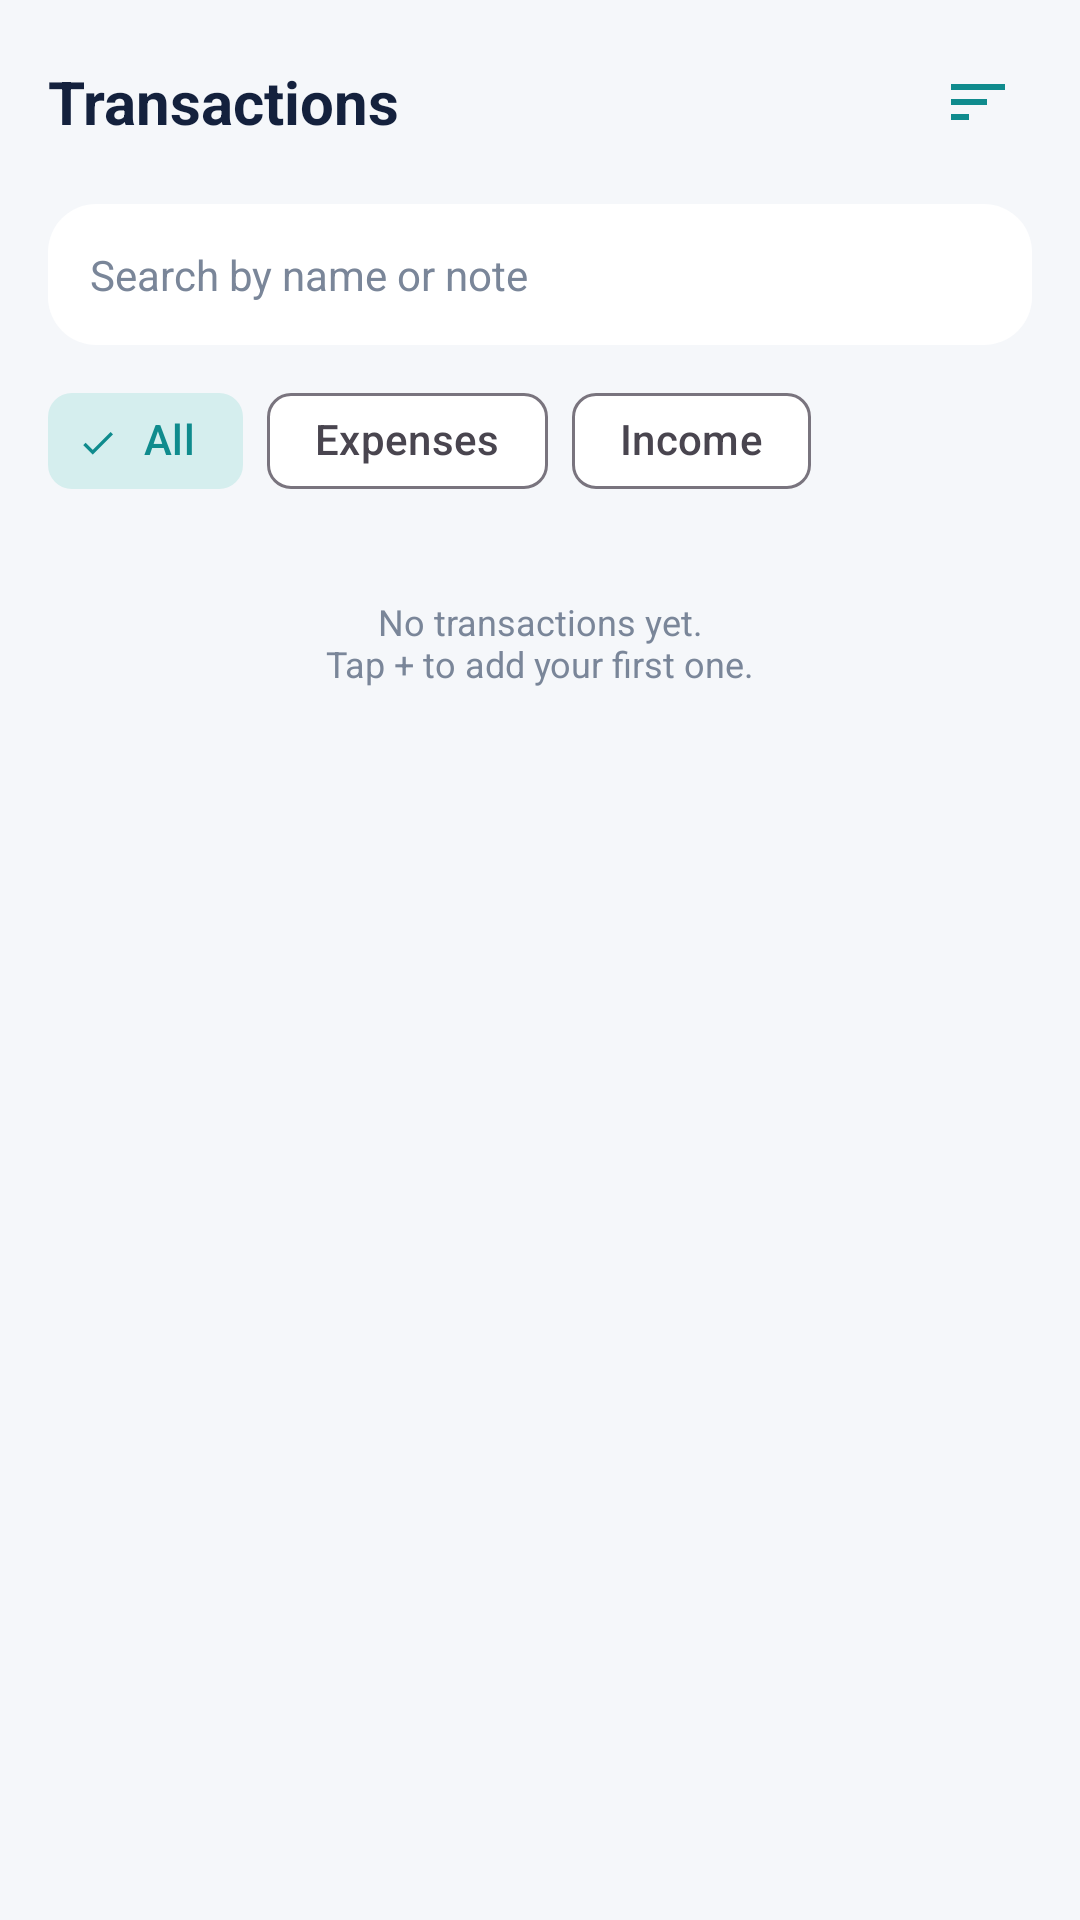

Named icons in this screenshot (1080 x 1920) and their centers, point (x, y):
Change sort order: point (978, 102)
